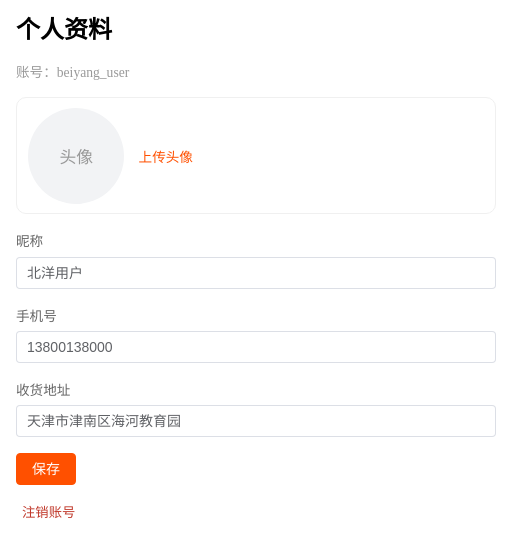
Test: 个人资料页 › 保存请求未完成时禁用提交按钮
Click the button with test id "profile-save": [46, 469] box [16,453,76,485]
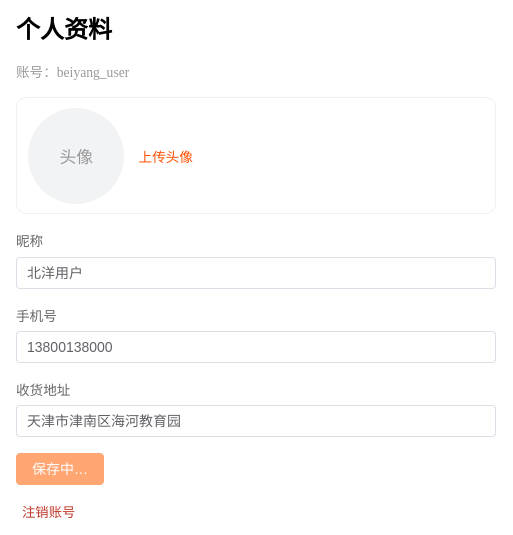
Now the button with test id "profile-save" is disabled, box [16,453,104,485]
